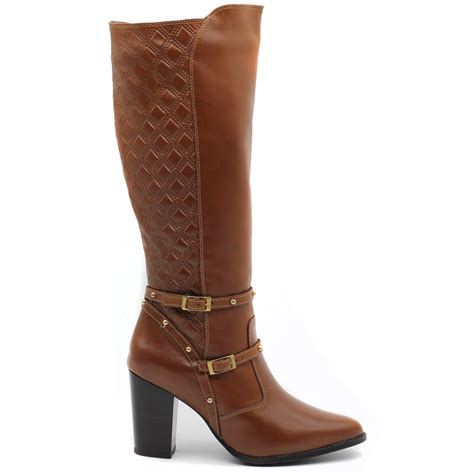cuero: (110, 4, 367, 458)
